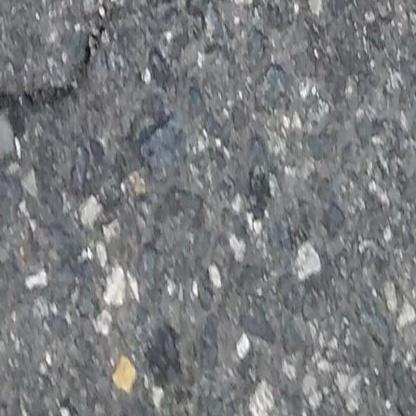Cracks: (0, 0, 150, 145)
